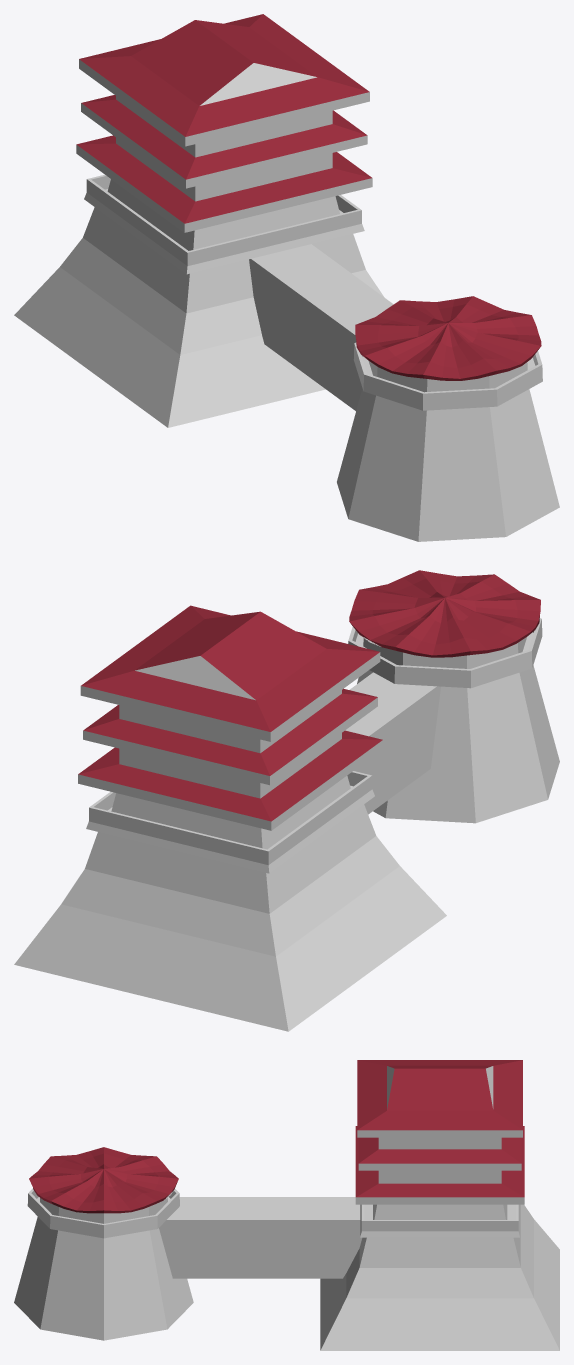
The model's file is asset.glb.
3 views of the same model, one above another, from view 1: azimuth 30°, elevation 25°; view 2: azimuth 150°, elevation 25°; view 3: azimuth 270°, elevation 25° (orthographic). The views are drawn at different scales.
Parts seen in each view (by area): view 1: 立方体, 八角屋根, 立方体.001; view 2: 立方体, 八角屋根, 立方体.001; view 3: 立方体, 八角屋根, 立方体.001.
Part boxes in pixels (x1=…): 立方体: x1=14, y1=14, x2=384, y2=427; 八角屋根: x1=337, y1=296, x2=559, y2=541; 立方体.001: x1=249, y1=244, x2=393, y2=410; 立方体: x1=14, y1=605, x2=446, y2=1031; 八角屋根: x1=348, y1=570, x2=559, y2=823; 立方体.001: x1=345, y1=672, x2=440, y2=814; 立方体: x1=320, y1=1060, x2=559, y2=1350; 八角屋根: x1=14, y1=1147, x2=193, y2=1340; 立方体.001: x1=159, y1=1197, x2=362, y2=1278.
Size of the model in its own units: 5.29 by 5.65 by 12.06.
